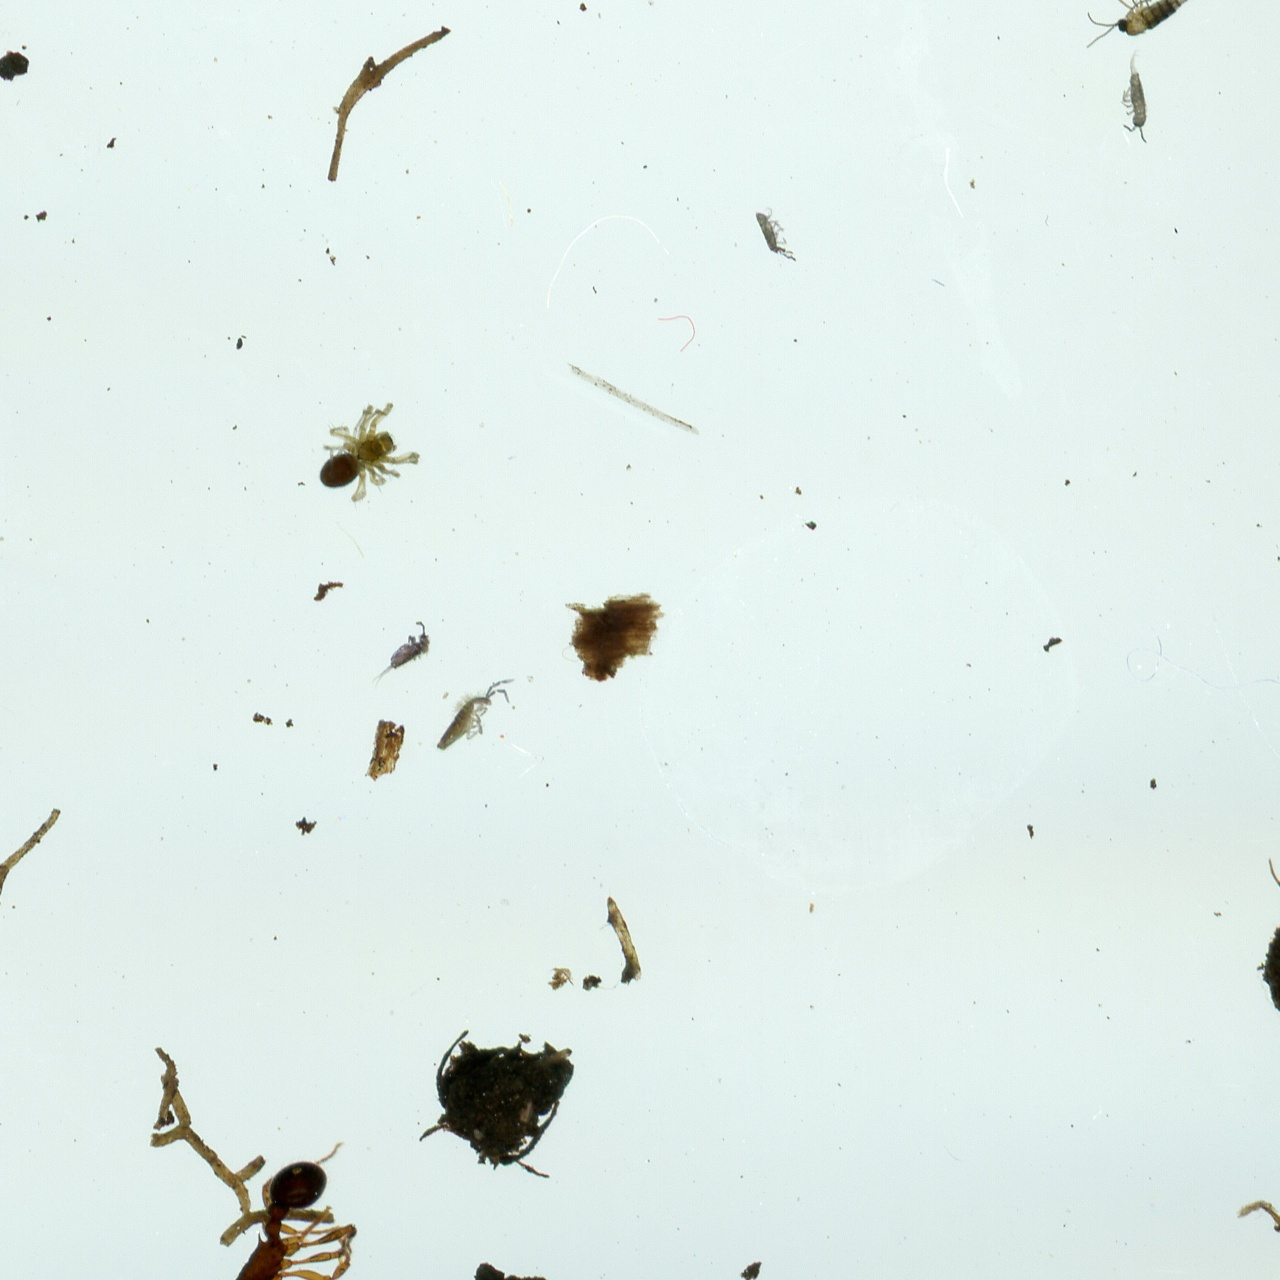arthropod: (205, 1137, 366, 1280), (415, 652, 531, 787), (1058, 0, 1226, 86), (314, 393, 427, 508), (360, 604, 455, 703), (1114, 40, 1158, 152), (749, 200, 803, 268)
